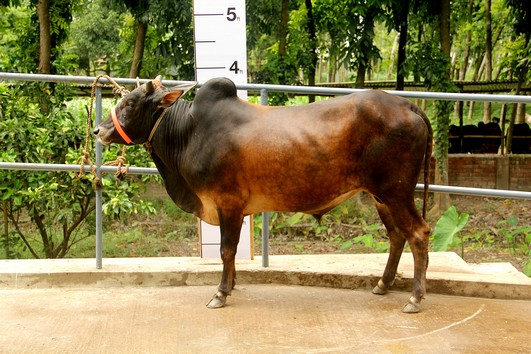cow: (89, 69, 444, 316)
